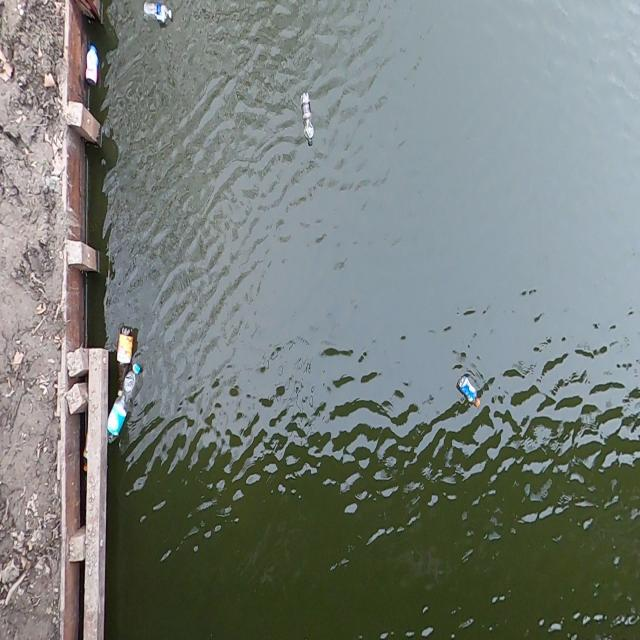Bouteille plastique: (108, 353, 152, 456), (109, 317, 140, 398), (453, 372, 484, 410), (140, 0, 176, 30), (299, 82, 315, 149), (83, 43, 99, 89)
